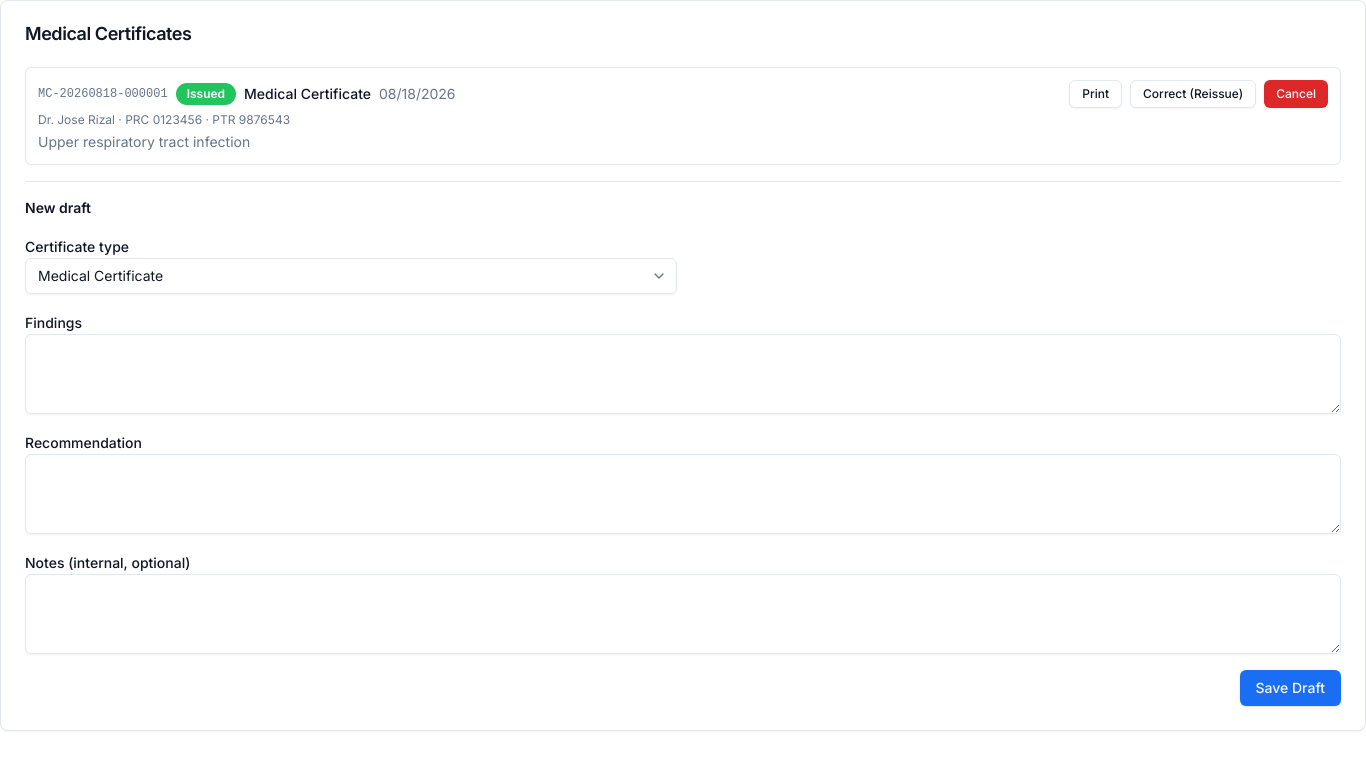
Test: MedicalCertificateTab › print opens the printable dialog and records the print
Click the button "Print".
click(1096, 94)  # box x1=1069 y1=80 x2=1122 y2=108
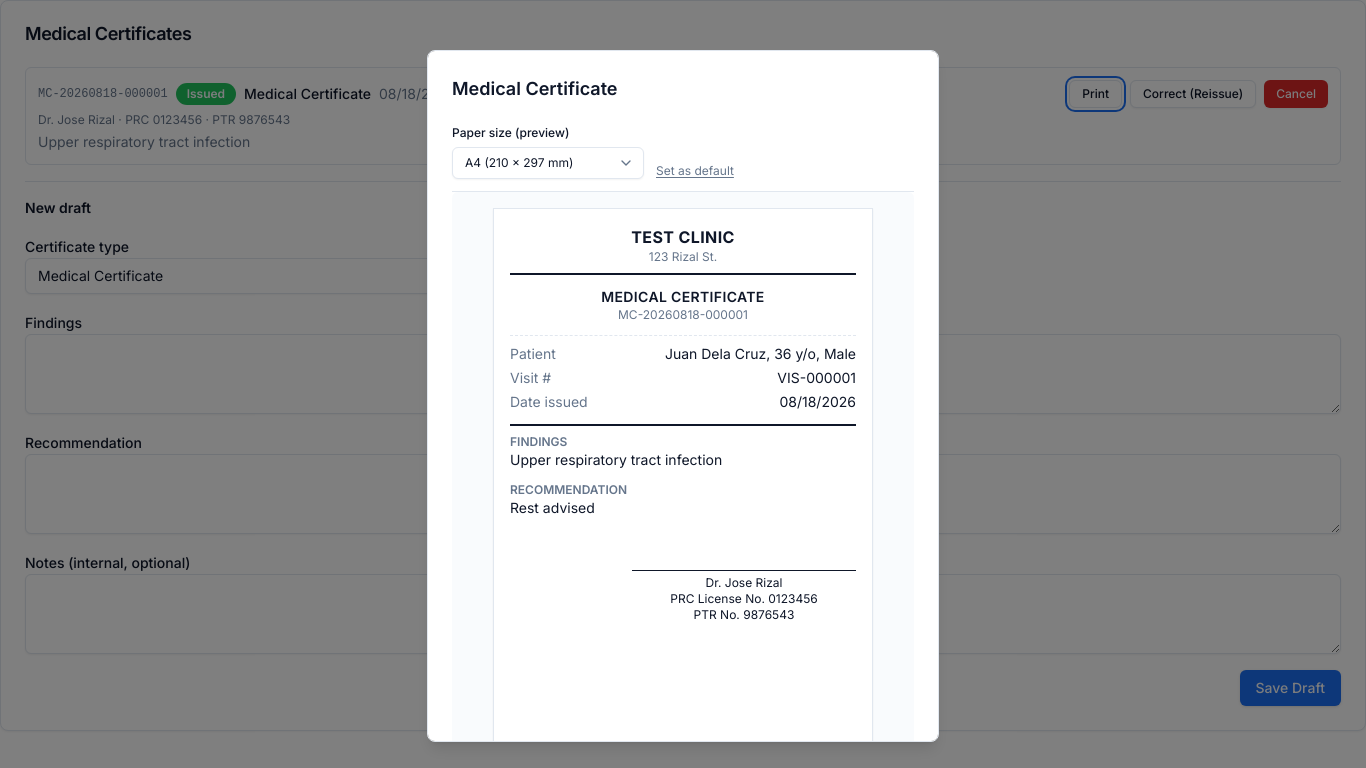
Expected: the text "Dr. Jose Rizal · PRC 0123456 · PTR 9876543" is shown, x1=38 y1=112 x2=290 y2=127
Expected: the text "PRC License No. 0123456" is shown, x1=670 y1=591 x2=818 y2=606
